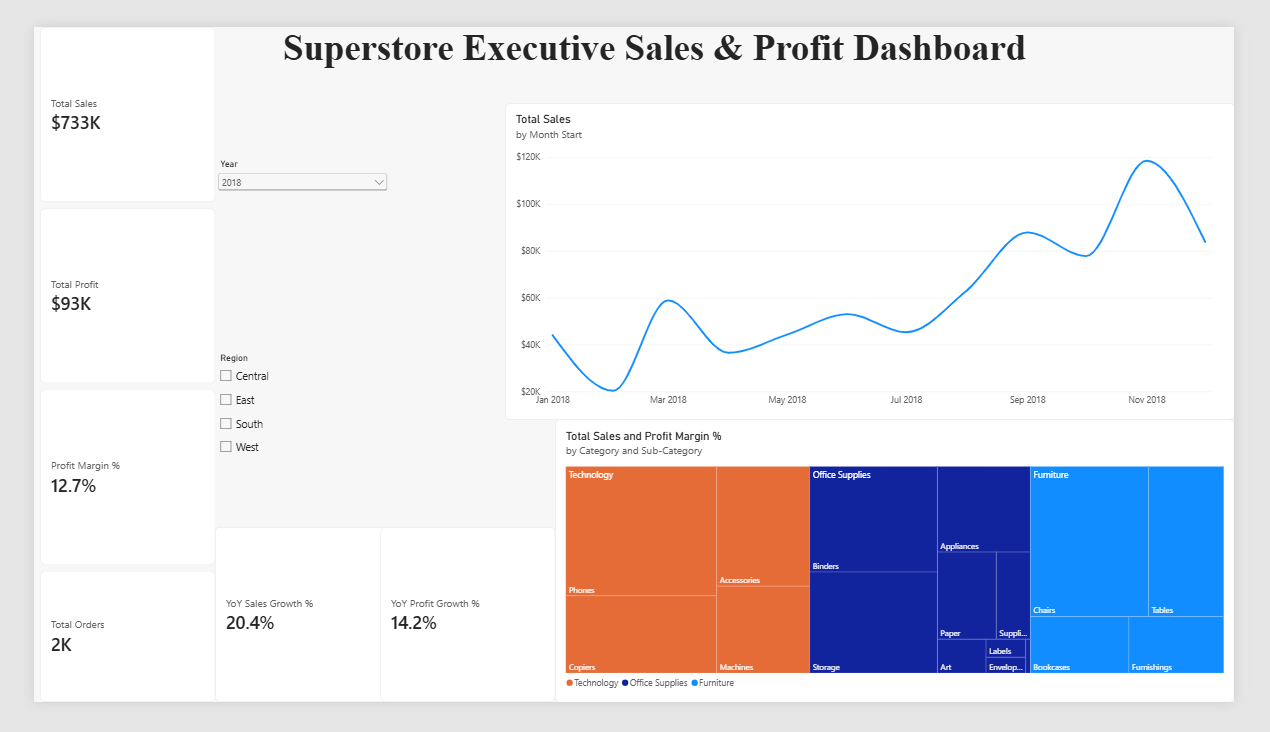

The page's visual inventory and layout, read from the dashboard file:
{"tool":"powerbi","page":{"name":"Executive Overview","canvas":[1920,1080],"ordinal":0},"visuals":[{"type":"cardVisual","fields":{"Data":["Fact_Orders.Total Sales"]},"box":[10,0,280,280],"z":0},{"type":"cardVisual","fields":{"Data":["Fact_Orders.Total Profit"]},"box":[10,290,280,280],"z":1000},{"type":"cardVisual","fields":{"Data":["Fact_Orders.Profit Margin %"]},"box":[10,580,280,280],"z":2000},{"type":"cardVisual","fields":{"Data":["Fact_Orders.Total Orders"]},"box":[10,870,280,210],"z":3000},{"type":"slicer","fields":{"Values":["Dim_Date.Year"]},"box":[290.2,209.9,280,280],"z":4000},{"type":"slicer","fields":{"Values":["Fact_Orders.Region"]},"box":[290.2,520.8,280,280],"z":5000},{"type":"lineChart","fields":{"Category":["Dim_Date.Month Start"],"Y":["Fact_Orders.Total Sales"]},"box":[753.3,121.4,1167.1,506.3],"z":6000},{"type":"treemap","fields":{"Details":["Dim_Product.Sub-Category"],"Group":["Dim_Product.Category"],"Values":["Fact_Orders.Total Sales"]},"box":[833.6,627.8,1086.8,452.8],"z":7000},{"type":"cardVisual","fields":{"Data":["Fact_Orders.YoY Sales Growth %"]},"box":[290.2,800.7,280,280],"z":8000},{"type":"cardVisual","fields":{"Data":["Fact_Orders.YoY Profit Growth %"]},"box":[553.7,800.7,280,280],"z":9000},{"type":"textbox","box":[290.2,0,1405.8,121.4],"z":10000}]}

Visuals, with their boxes in screenshot pixels (x1, y1, x2, y2), scaled from the page's 1920x1080 canvas onto the 1270x732 screenshot:
cardVisual - Fact_Orders.Total Sales: Rect(7, 0, 192, 190)
cardVisual - Fact_Orders.Total Profit: Rect(7, 197, 192, 386)
cardVisual - Fact_Orders.Profit Margin %: Rect(7, 393, 192, 583)
cardVisual - Fact_Orders.Total Orders: Rect(7, 590, 192, 731)
slicer - Dim_Date.Year: Rect(192, 142, 377, 332)
slicer - Fact_Orders.Region: Rect(192, 353, 377, 543)
lineChart - Dim_Date.Month Start x Fact_Orders.Total Sales: Rect(498, 82, 1269, 425)
treemap - Dim_Product.Sub-Category x Dim_Product.Category: Rect(551, 426, 1269, 731)
cardVisual - Fact_Orders.YoY Sales Growth %: Rect(192, 543, 377, 731)
cardVisual - Fact_Orders.YoY Profit Growth %: Rect(366, 543, 551, 731)
textbox: Rect(192, 0, 1122, 82)
